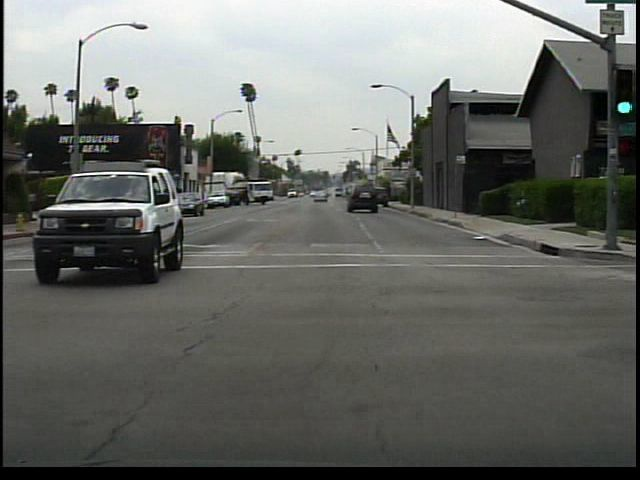person: (93, 182, 113, 220)
